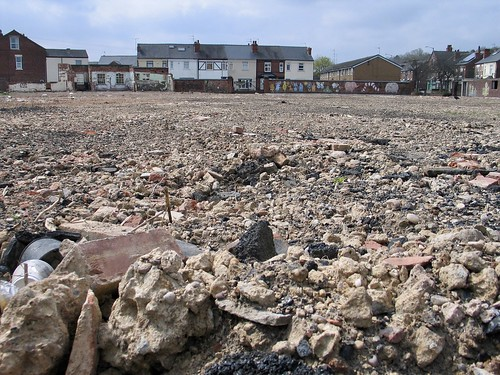building: (136, 43, 321, 97), (1, 32, 90, 99), (329, 52, 400, 93), (430, 50, 471, 96), (476, 50, 500, 98)
rocks: (20, 106, 500, 369)
sky: (10, 1, 500, 45)
